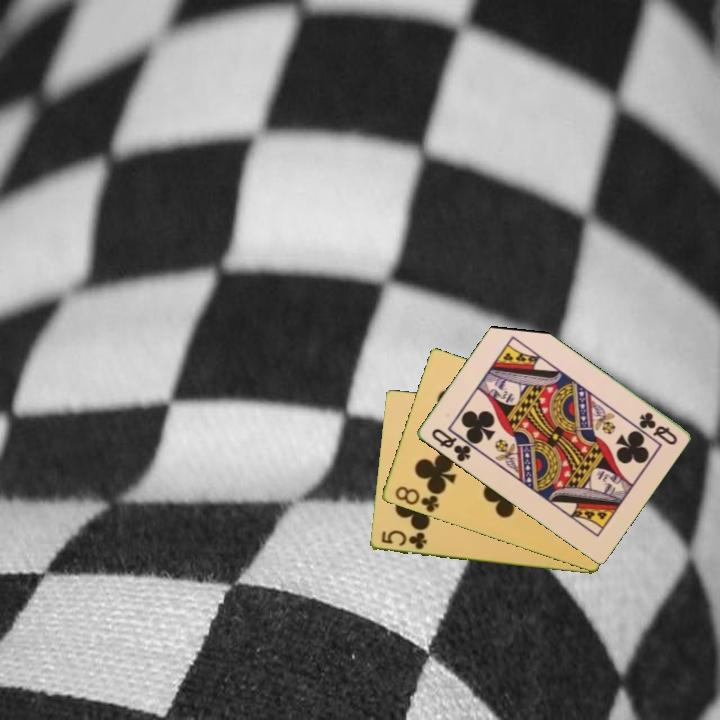5c: (378, 527, 430, 553)
8c: (391, 483, 442, 516)
Qc: (427, 425, 474, 465), (635, 408, 680, 448)
